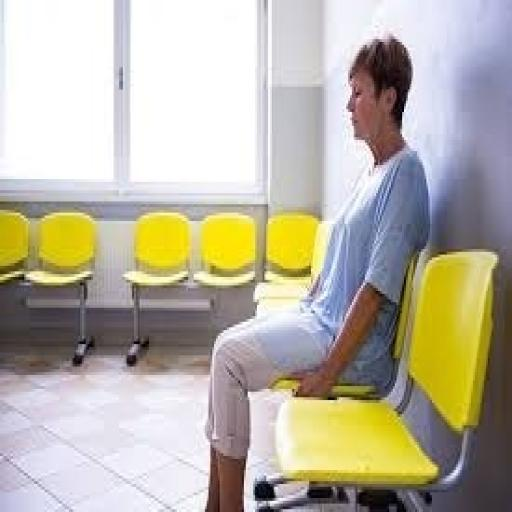sitting: (199, 31, 432, 509)
